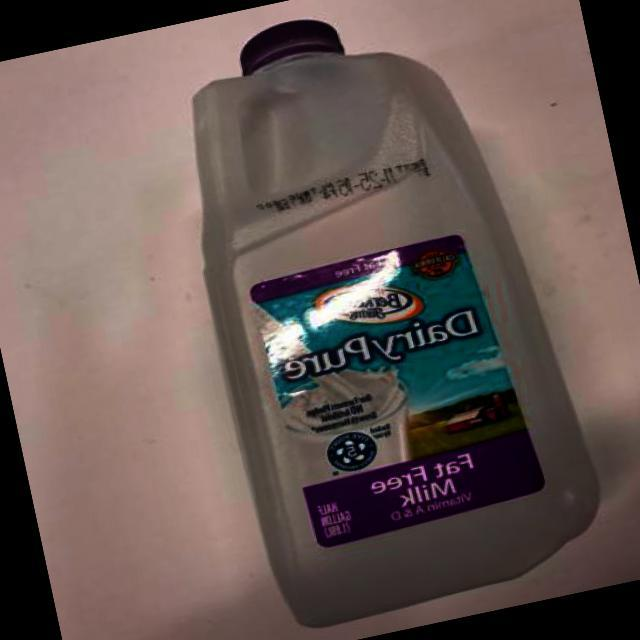HDPE Plastic: (184, 17, 608, 632)
